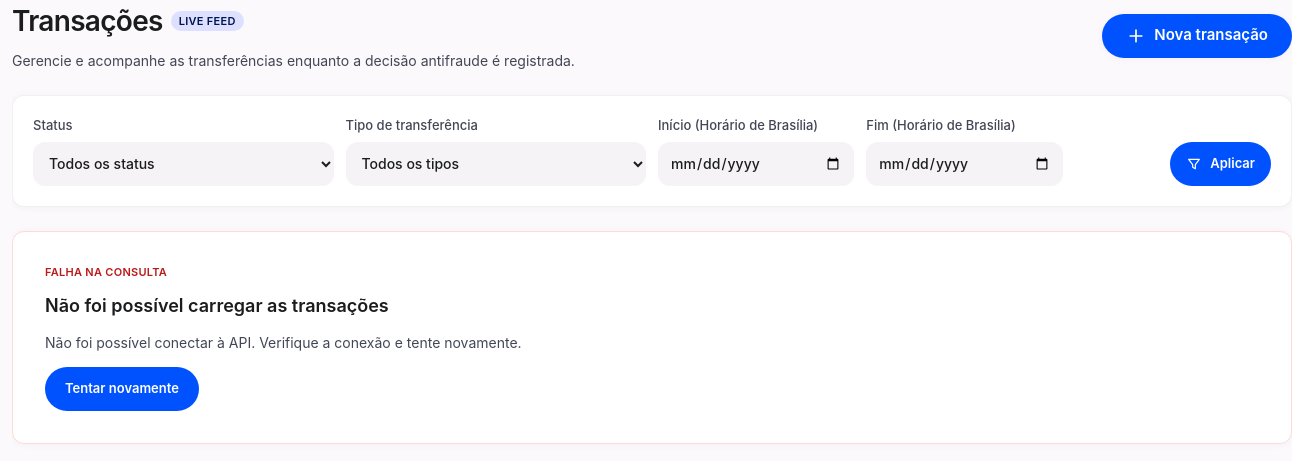
Test: web/TransactionsListView — TI-02 › mostra falha com tentativa manual, sem apresentar como lista vazia
The width and height of the screenshot is (1292, 461).
Expected: the message shows "Não foi possível carregar as transações", [45,295,389,316]
Expected: the message shows "Não foi possível conectar à API. Verifique a conexão e tente novamente.", [45,334,522,351]
Click the button "Tentar novamente": (122, 389) [45,367,199,411]
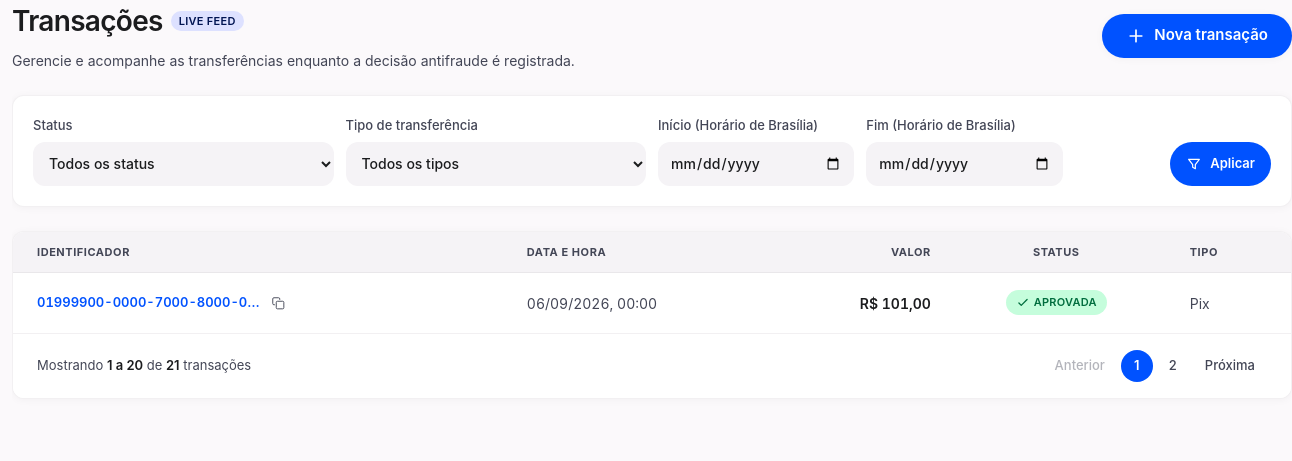
Expected: the table is shown, [13,232,1291,333]
